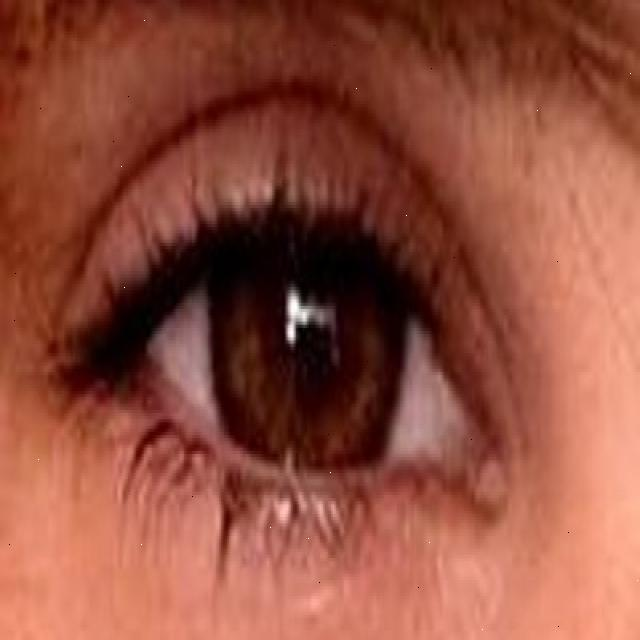Normal: (202, 142, 410, 511)
